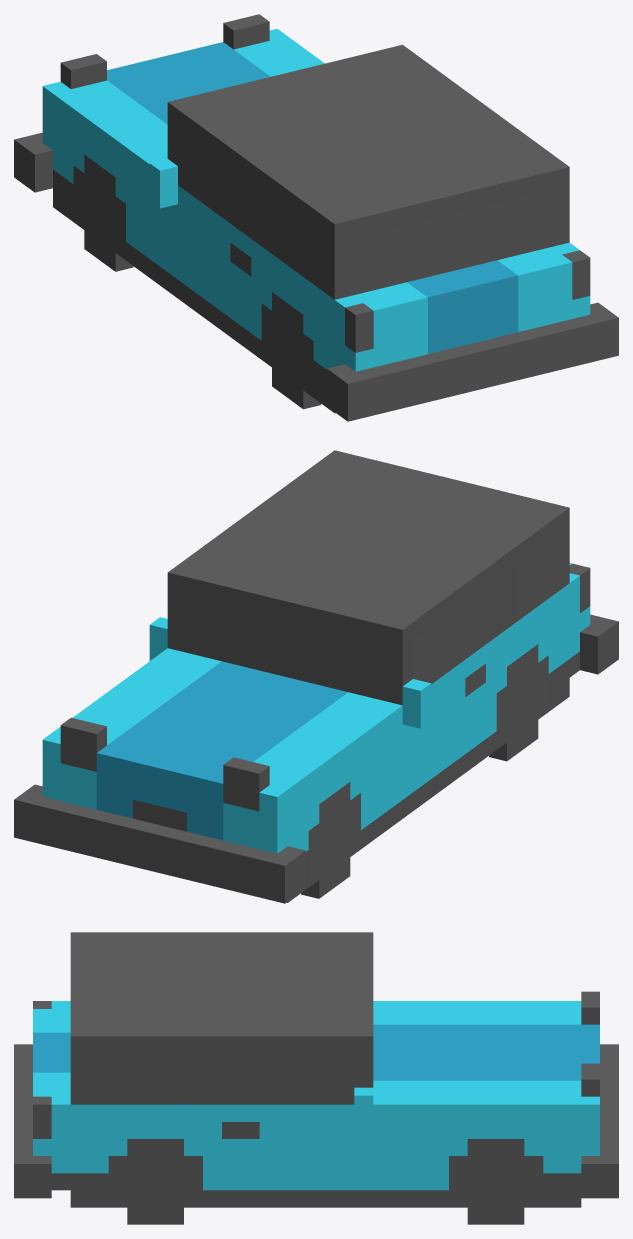
The model's file is veh_wagon1.obj.
3 renders of one model, top to bottom at view 1: azimuth 30°, elevation 25°; view 2: azimuth 150°, elevation 25°; view 3: azimuth 270°, elevation 25°, orthographic. The views are drawn at different scales.
Size of the model in its own units: 15 by 11 by 32.
